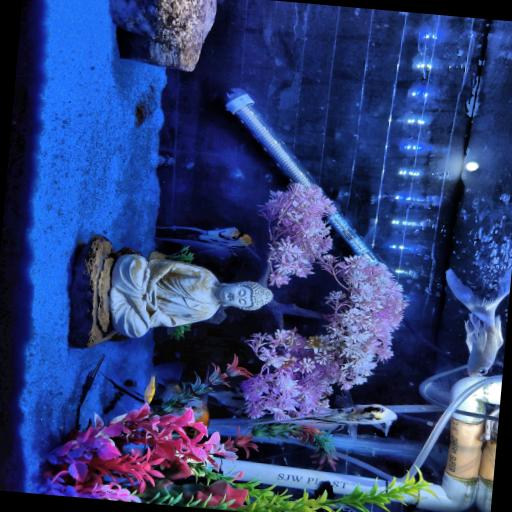Fish: (446, 269, 511, 376), (276, 404, 396, 437), (155, 227, 257, 257), (152, 362, 181, 400), (143, 376, 154, 404)
